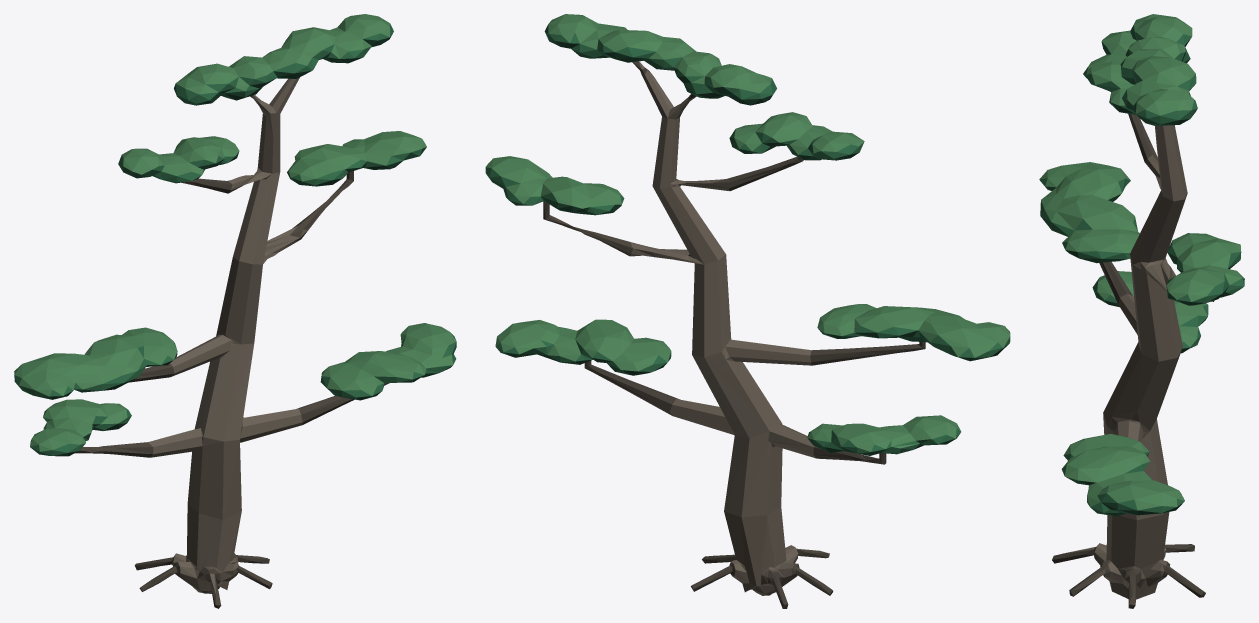
The model's file is ancient-pine-1401-lod1.glb.
3 renders of one model, left to right at view 1: azimuth 30°, elevation 25°; view 2: azimuth 150°, elevation 25°; view 3: azimuth 270°, elevation 25°, orthographic. The views are drawn at different scales.
Visible parts, largest first — view 1: n12.005, n8.005, n11.005, n9.005, n10.005; view 2: n8.005, n12.005, n11.005, n9.005, n10.005; view 3: n12.005, n8.005, n11.005, n9.005, n10.005.
Boxes of the visible parts, x1=… form: n12.005: x1=14, y1=14, x2=456, y2=451; n8.005: x1=148, y1=77, x2=308, y2=595; n11.005: x1=14, y1=23, x2=456, y2=455; n9.005: x1=75, y1=95, x2=389, y2=608; n10.005: x1=15, y1=33, x2=455, y2=456; n8.005: x1=630, y1=61, x2=816, y2=595; n12.005: x1=486, y1=14, x2=1010, y2=451; n11.005: x1=485, y1=24, x2=1010, y2=453; n9.005: x1=543, y1=61, x2=925, y2=608; n10.005: x1=489, y1=41, x2=1008, y2=455; n12.005: x1=1039, y1=14, x2=1244, y2=510; n8.005: x1=1065, y1=125, x2=1187, y2=599; n11.005: x1=1039, y1=23, x2=1244, y2=512; n9.005: x1=1052, y1=113, x2=1214, y2=608; n10.005: x1=1042, y1=31, x2=1241, y2=516.
Bounding box in the file's own units: 4.98 × 5.41 × 1.7.
